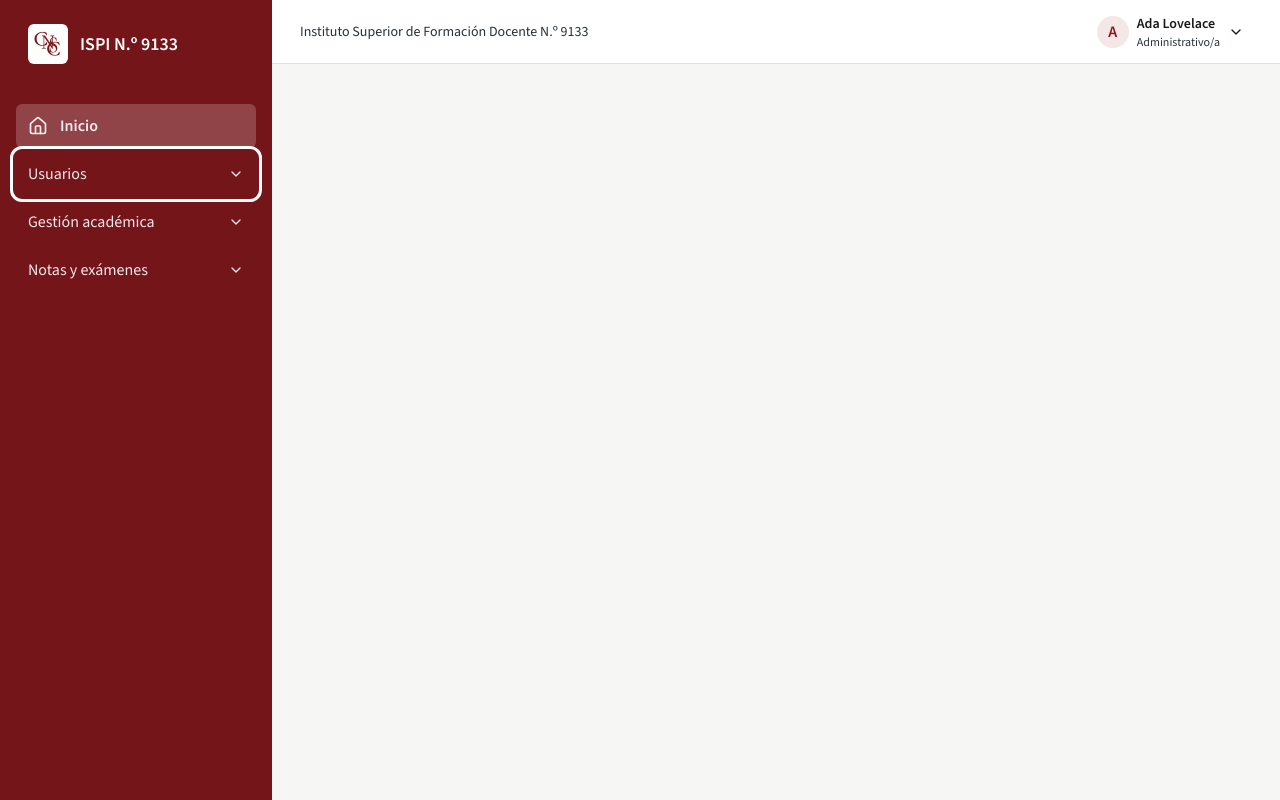
Test: AppShell › opens only one administrative group and supports native keyboard activation
Step 1. Press Enter
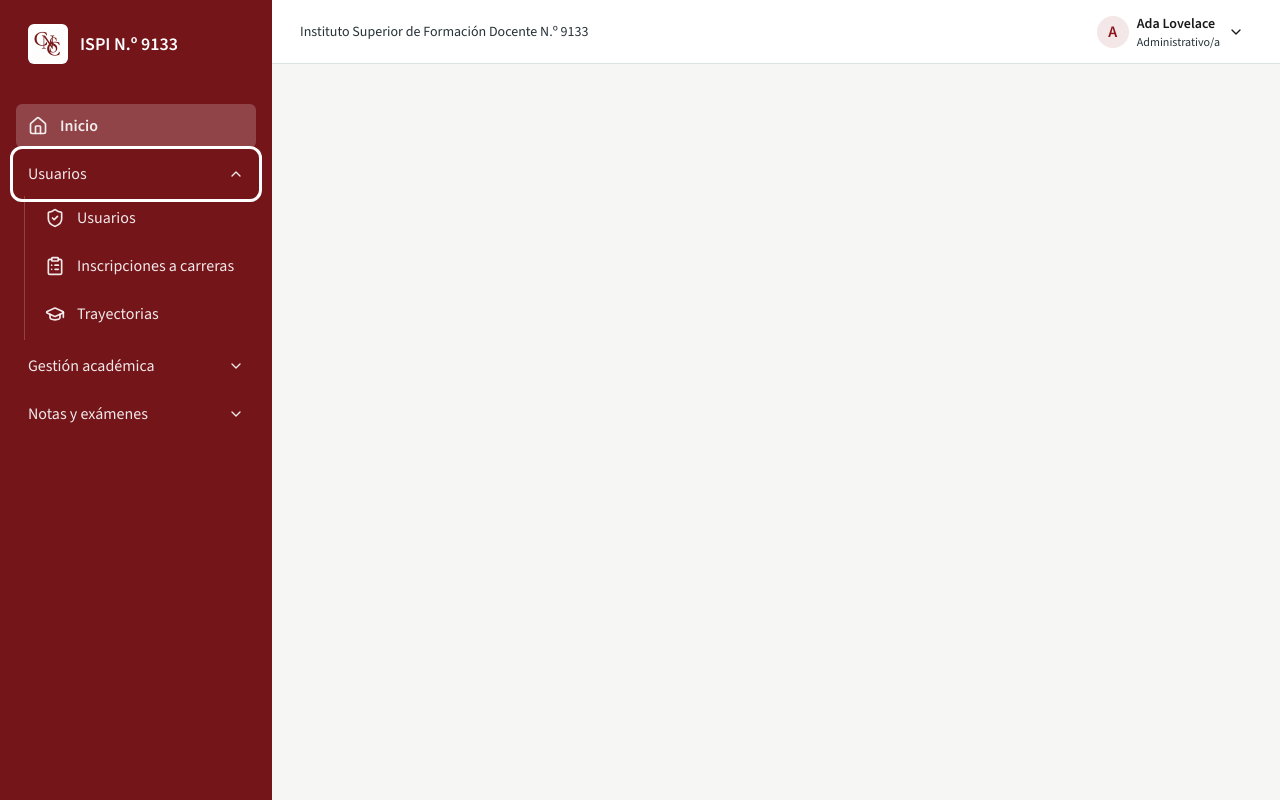
Result: the button "Usuarios" is expanded at 16,152 -> 256,196
Step 2. Click the button "Gestión académica" → click(136, 366), box 16,344 -> 256,388
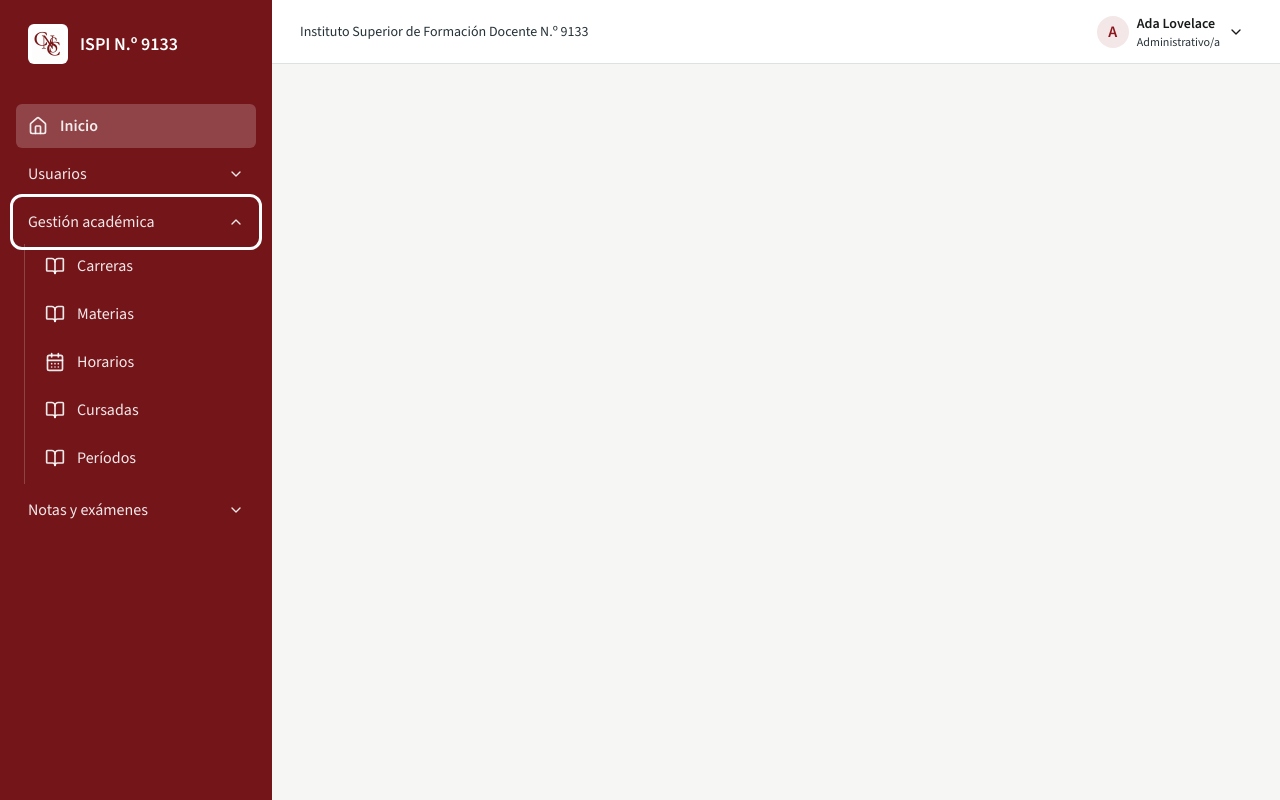
Result: the button "Usuarios" is collapsed at 16,152 -> 256,196
Result: the button "Gestión académica" is expanded at 16,200 -> 256,244
Step 3. Type keys " "
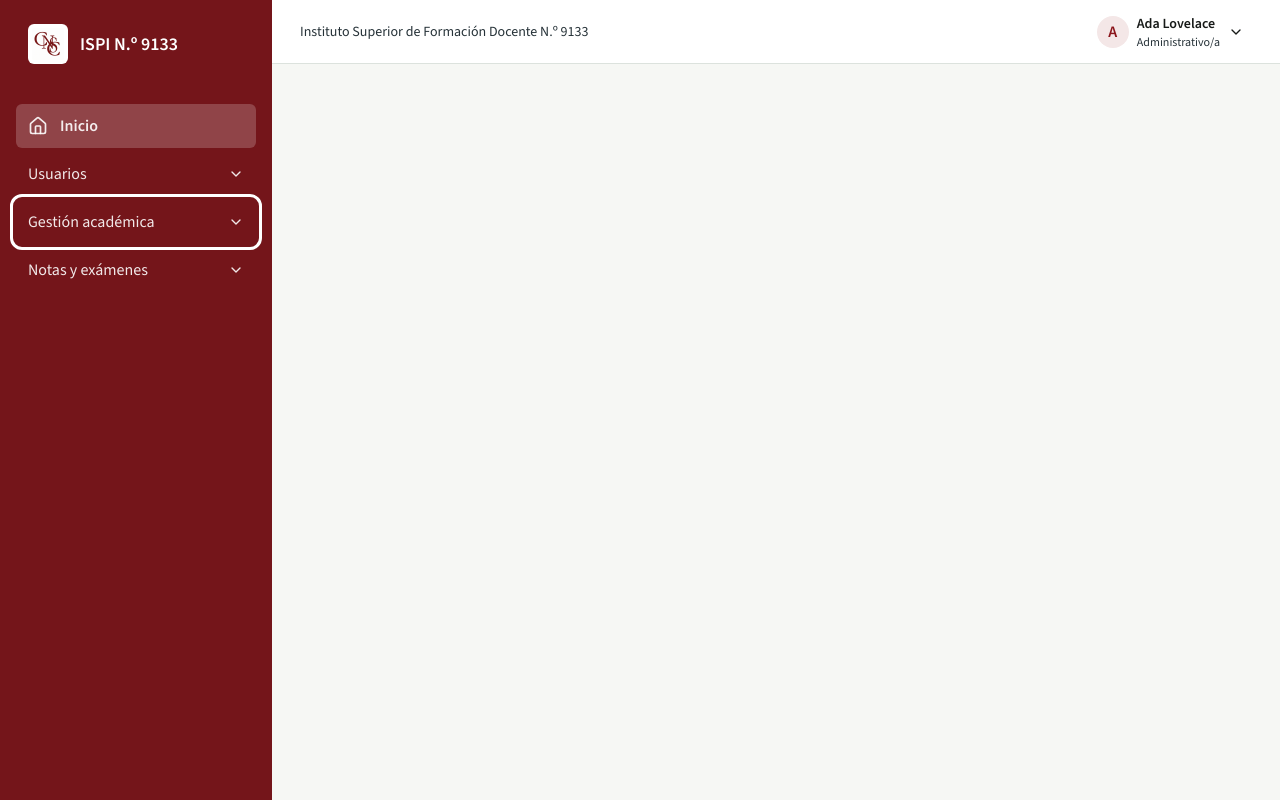
Result: the button "Gestión académica" is collapsed at 16,200 -> 256,244
